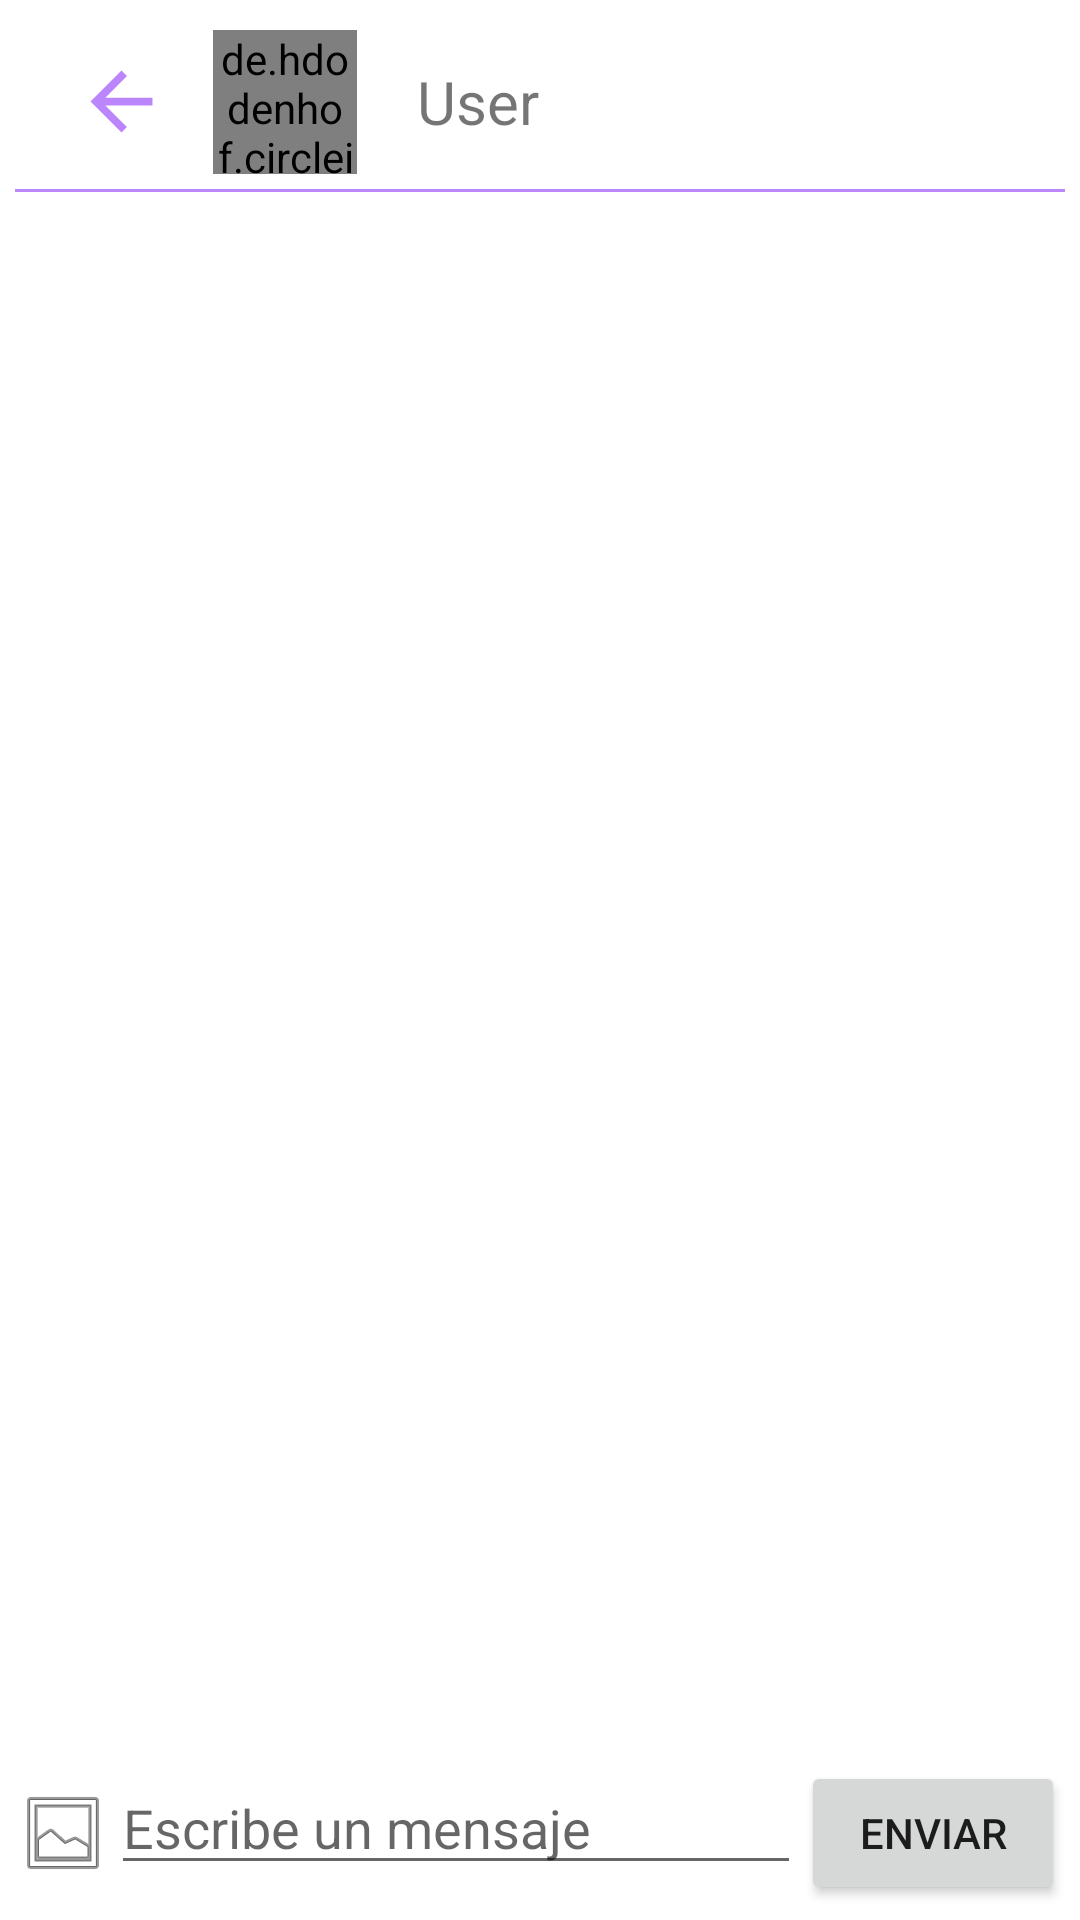

Screen size 1080×1920. Icon name, then its center in pixels as (x=x, y=y):
back: (x=121, y=101)
gallery: (x=63, y=1833)
